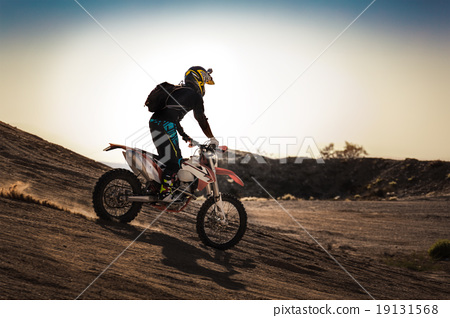helmet: (182, 63, 221, 98)
